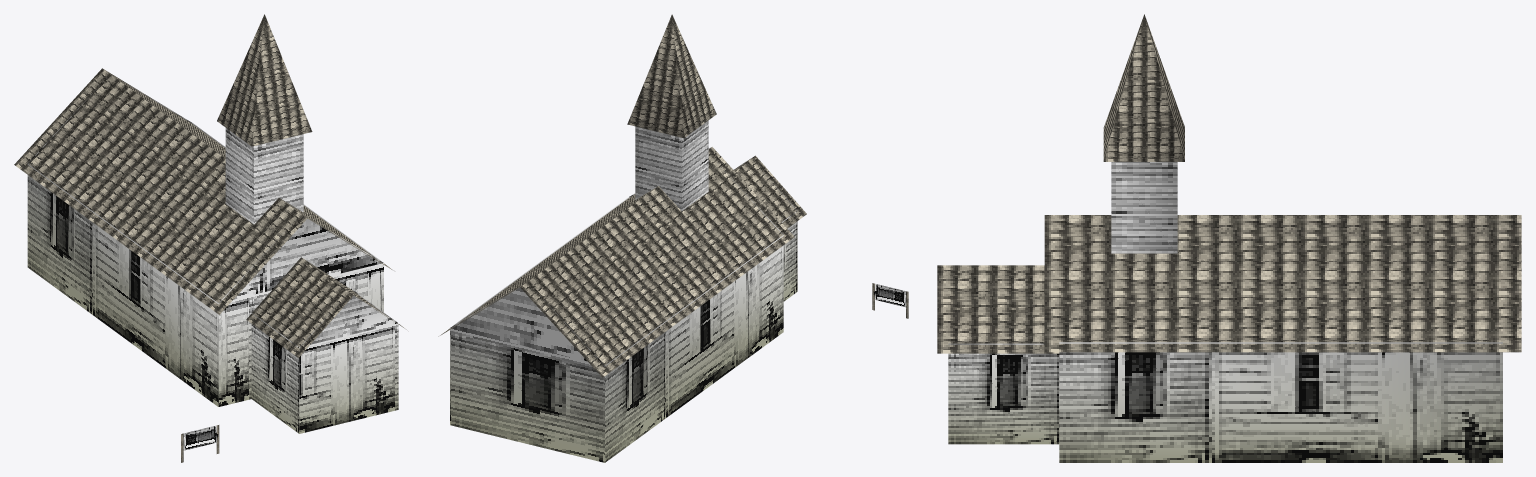
The model's file is uvmd-0083.glb.
3 views of the same model, side by side, from view 1: azimuth 30°, elevation 25°; view 2: azimuth 150°, elevation 25°; view 3: azimuth 270°, elevation 25° (orthographic). The views are drawn at different scales.
Visible parts, largest first — view 1: uvmd-0083; view 2: uvmd-0083; view 3: uvmd-0083.
Part boxes in pixels (x1,y1,x2,y2): uvmd-0083: [14, 14, 406, 462]; uvmd-0083: [438, 14, 908, 462]; uvmd-0083: [937, 14, 1521, 462].
Bounding box in the file's own units: 93 × 120 × 158.
Materials: 2 (2 with a texture image).
